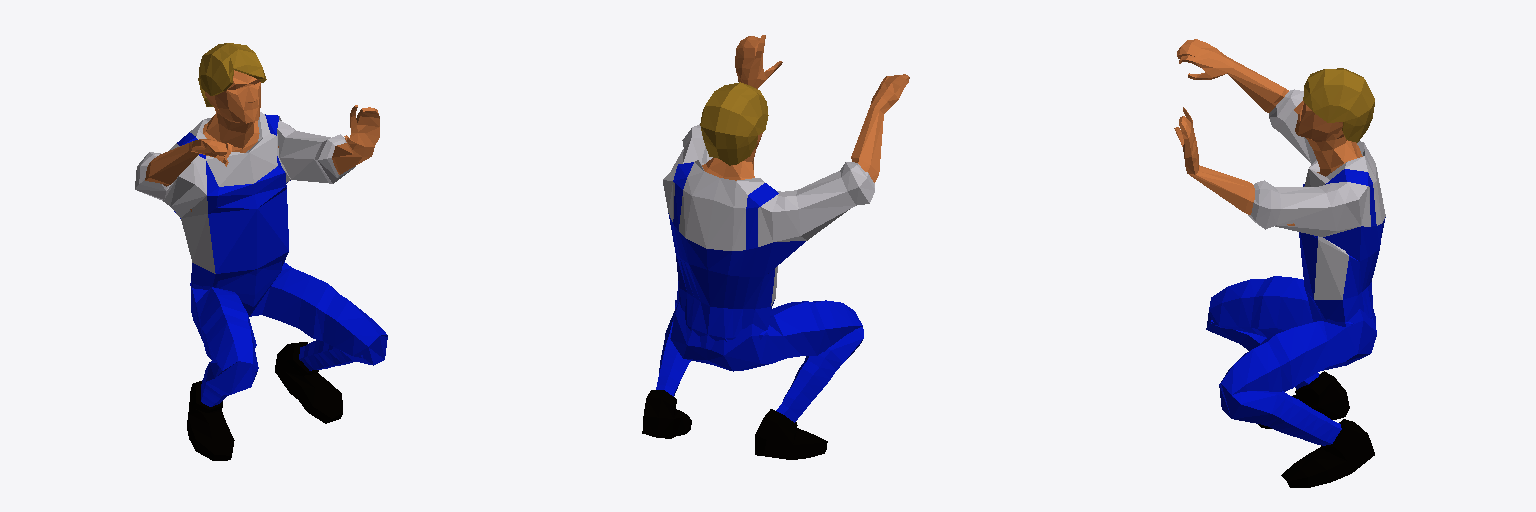
File: meV2_mechanic.obj
3 views of the same model, side by side, from view 1: azimuth 30°, elevation 25°; view 2: azimuth 150°, elevation 25°; view 3: azimuth 270°, elevation 25° (orthographic).
Parts seen in each view (by area): view 1: male_Circle.008, male.001_Circle.001, male.003_Circle.003, male.004_Circle.004; view 2: male.001_Circle.001, male_Circle.008, male.004_Circle.004, male.003_Circle.003; view 3: male_Circle.008, male.001_Circle.001, male.003_Circle.003, male.004_Circle.004.
Part boxes in pixels (left/top/right/bottom): male_Circle.008: left=145, top=70, right=387, bottom=406; male.001_Circle.001: left=135, top=112, right=355, bottom=286; male.003_Circle.003: left=187, top=342, right=342, bottom=460; male.004_Circle.004: left=198, top=43, right=266, bottom=106; male.001_Circle.001: left=663, top=124, right=874, bottom=349; male_Circle.008: left=656, top=35, right=909, bottom=422; male.004_Circle.004: left=700, top=82, right=768, bottom=165; male.003_Circle.003: left=642, top=390, right=827, bottom=459; male_Circle.008: left=1174, top=39, right=1376, bottom=445; male.001_Circle.001: left=1248, top=89, right=1385, bottom=325; male.003_Circle.003: left=1258, top=371, right=1374, bottom=487; male.004_Circle.004: left=1303, top=68, right=1374, bottom=142.
Bounding box in the file's own units: 1.52 × 2.46 × 1.25.